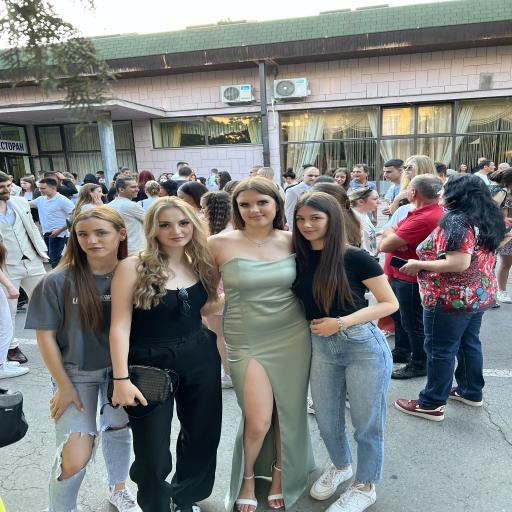masa: (70, 217, 119, 257)
